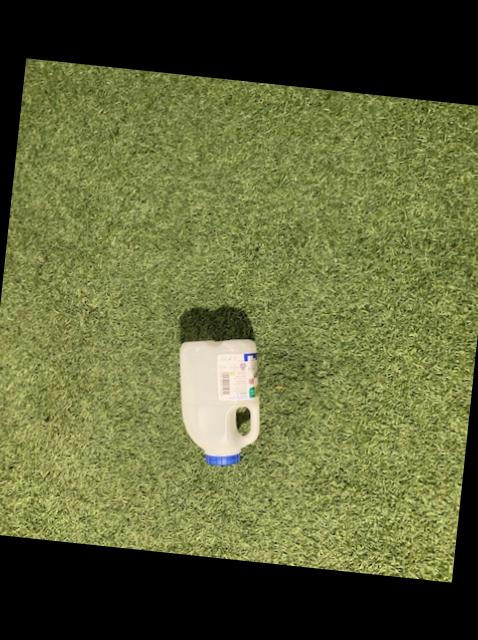plastic: (182, 338, 261, 464)
